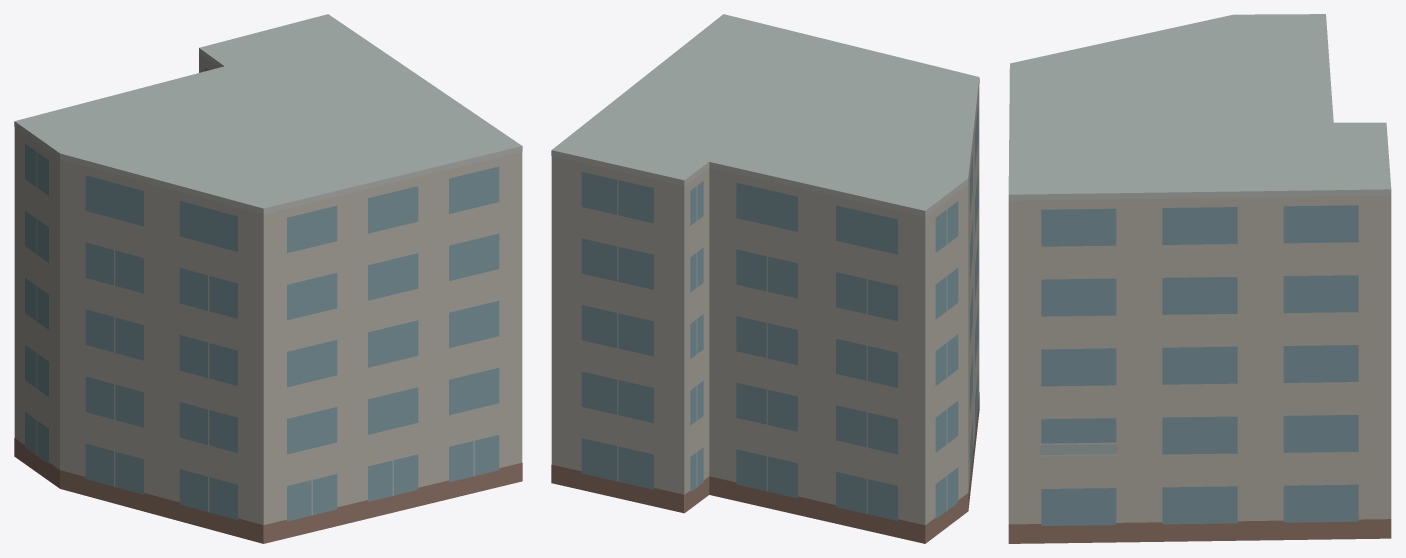
File: survey-upis-32959775.glb
3 views of the same model, side by side, from view 1: azimuth 30°, elevation 25°; view 2: azimuth 150°, elevation 25°; view 3: azimuth 270°, elevation 25° (orthographic). The views are drawn at different scales.
Parts seen in each view (by area): view 1: survey-upis-32959775.tmp; view 2: survey-upis-32959775.tmp; view 3: survey-upis-32959775.tmp.
Part boxes in pixels (x1=…): survey-upis-32959775.tmp: x1=14, y1=14, x2=522, y2=543; survey-upis-32959775.tmp: x1=551, y1=14, x2=979, y2=543; survey-upis-32959775.tmp: x1=1008, y1=14, x2=1391, y2=543.
Bounding box in the file's own units: 15.65 × 14.1 × 14.02.
